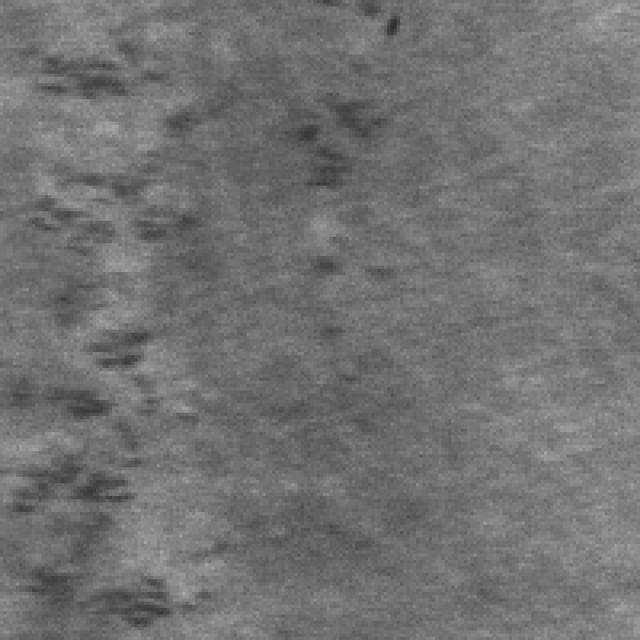rolled-in_scale: (7, 16, 202, 621), (278, 84, 397, 278)
